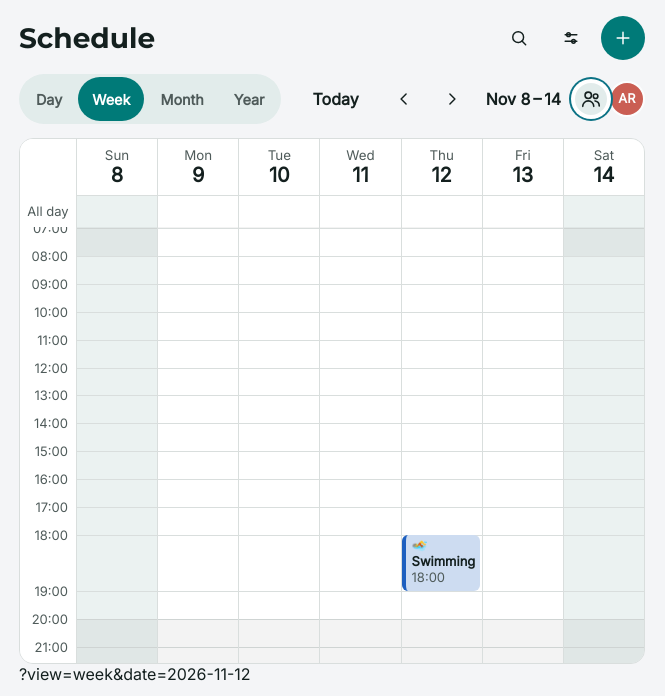
Test: SchedulePage navigation › next and previous move by the view's length
(page scrolled)
Expected: the text "Swimming" is shown, [412,553,475,569]
What coordinates should you click on to do the following:
click the button named "Next"
I would click on:
 (452, 99)
Its box is [430,77,474,121].
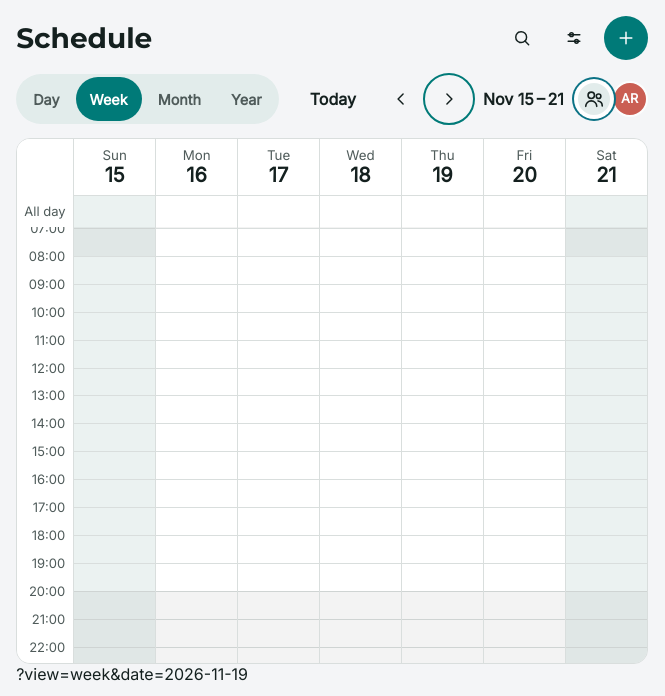
Expected: the text with test id "url" shows "date=2026-11-19", [16,664,248,684]
What coordinates should you click on to do the following:
click the button named "Previous"
I would click on:
 (401, 99)
Its box is [379,77,423,121].
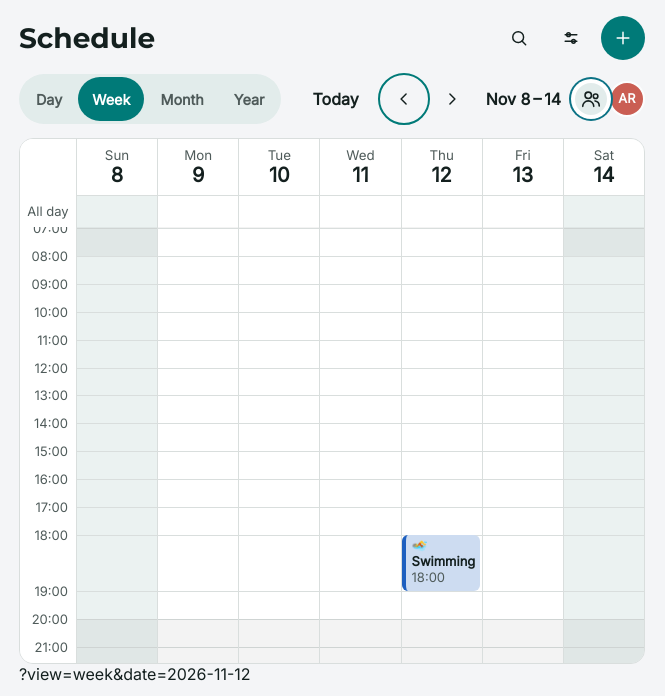
What coordinates should you click on to do the following:
click the button named "Previous"
I would click on:
 (404, 99)
Its box is [382,77,426,121].
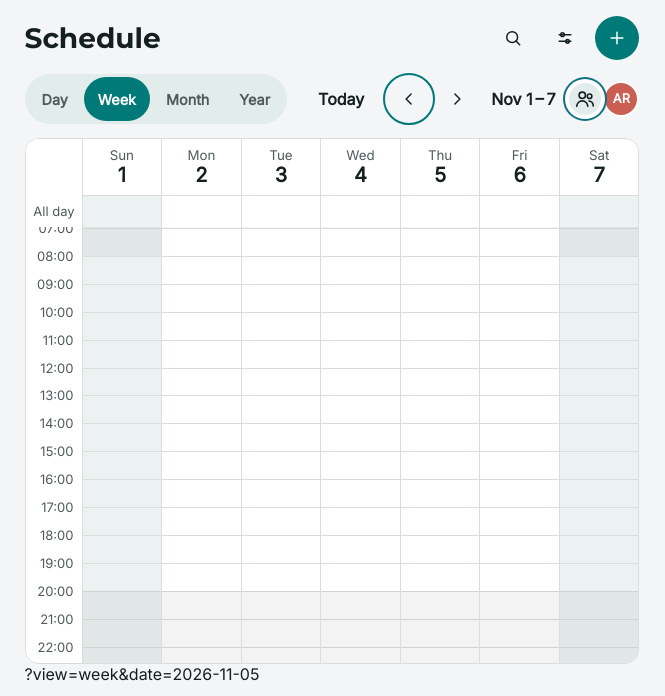
Expected: the text with test id "url" shows "date=2026-11-05", [24,664,259,684]
